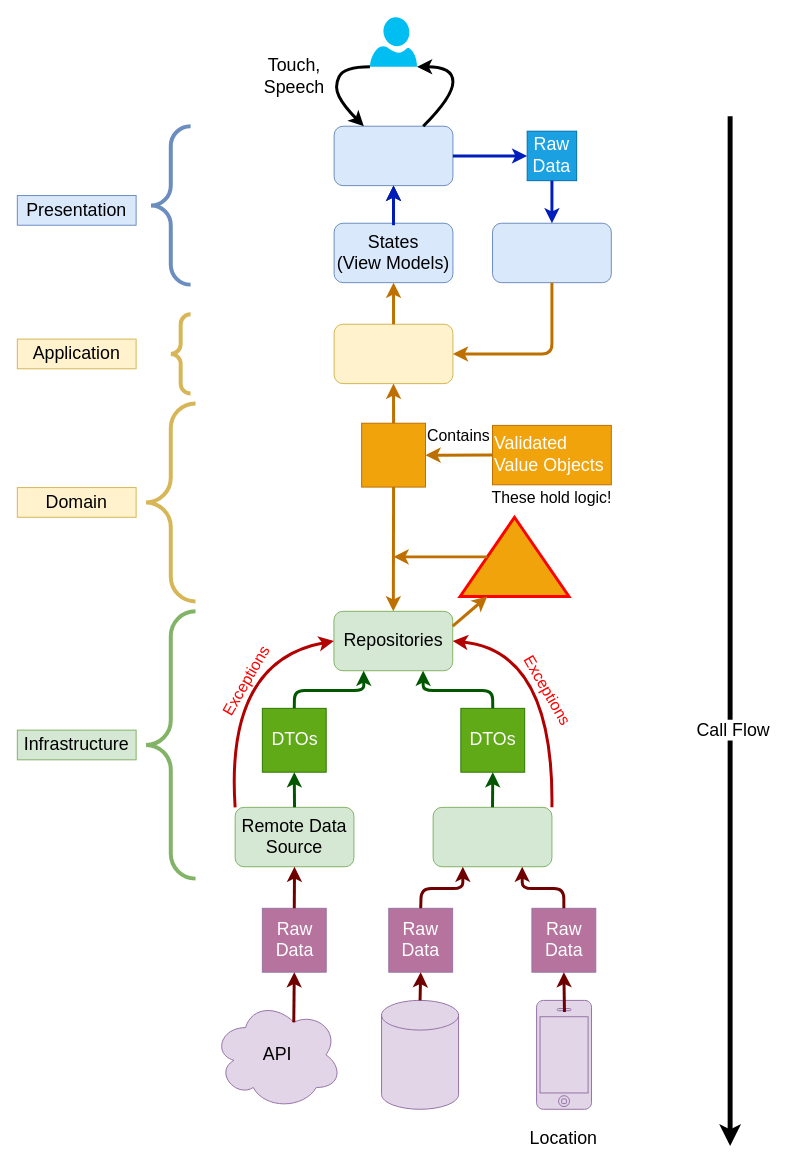
The diagram is 786 pixels wide and 1173 high, and some of its shapes have lost their labels. The shapes that lost their labels are listed below. From the top down, each one's centre as x and y in pixels, then its label:
At point 393,155: "Widget".
At point 551,252: "Events (View Models)".
At point 393,353: "BLoCs (Use cases)".
At point 393,454: "Entities".
At point 514,556: "Failures".
At point 492,836: "Local Data Source".
At point 420,1054: "DB".
